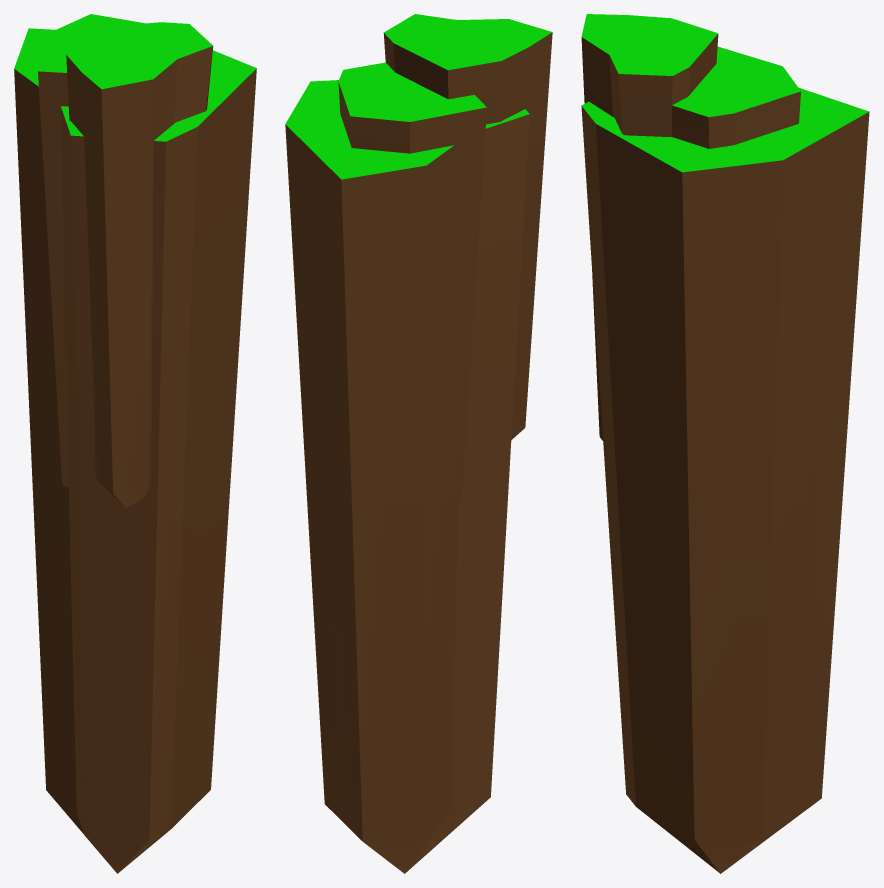
Rendered from Island02.fbx.
The picture shows the model from 3 angles, left to right: view 1: azimuth 30°, elevation 25°; view 2: azimuth 150°, elevation 25°; view 3: azimuth 270°, elevation 25°; orthographic projection. The views are drawn at different scales.
Parts seen in each view (by area): view 1: New_Game_Object1; view 2: New_Game_Object1; view 3: New_Game_Object1.
Part boxes in pixels (left/top/right/bottom): New_Game_Object1: left=14, top=14, right=256, bottom=873; New_Game_Object1: left=285, top=14, right=552, bottom=873; New_Game_Object1: left=581, top=14, right=869, bottom=873.
Size of the model in its own units: 1600 by 2000 by 6280.
